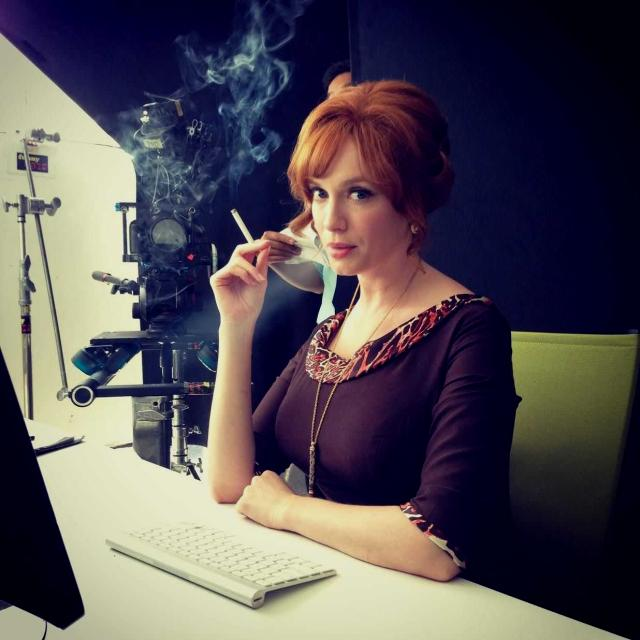Smooking: (220, 194, 262, 239)
